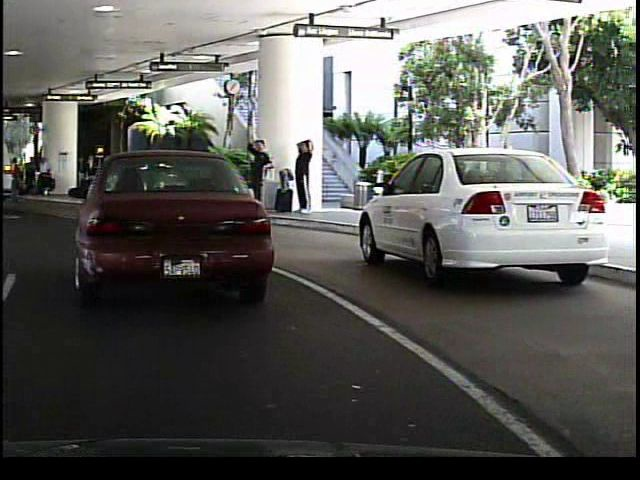person: (242, 132, 270, 214), (290, 133, 314, 216), (297, 147, 319, 211), (135, 155, 153, 195)
